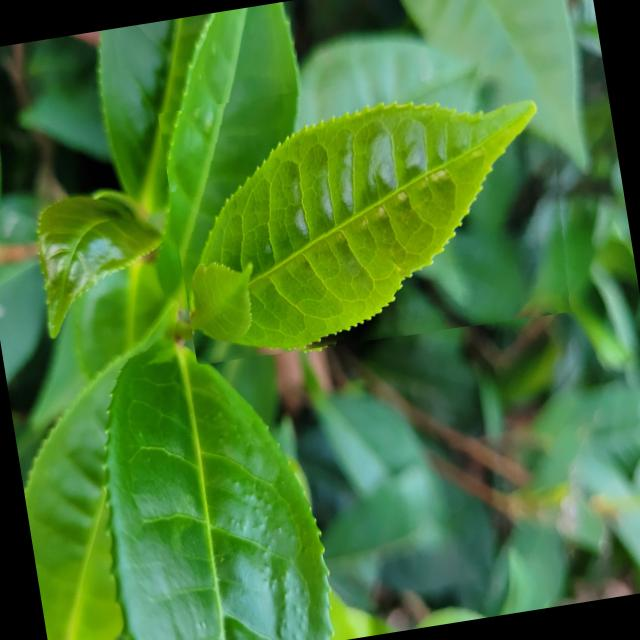Catagory A(1-2 days): (157, 53, 585, 371)
